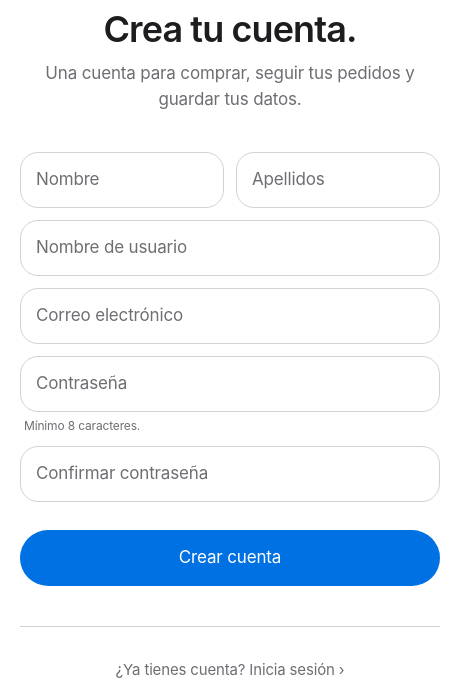
Test: RegisterForm — envío › muestra el error del servidor sin redirigir
This screenshot has width=461, height=700.
Type "Alan" into the field labelled "Nombre" at (122, 180), box [20,152,224,208]
Type "Vasquez" into the field labelled "Apellidos" at (338, 180), box [236,152,440,208]
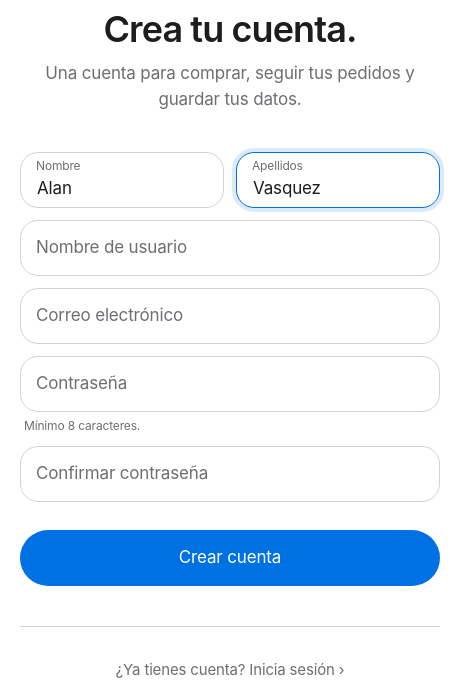
Type "alan" into the field labelled "Nombre de usuario" at (230, 248), box [20,220,440,276]
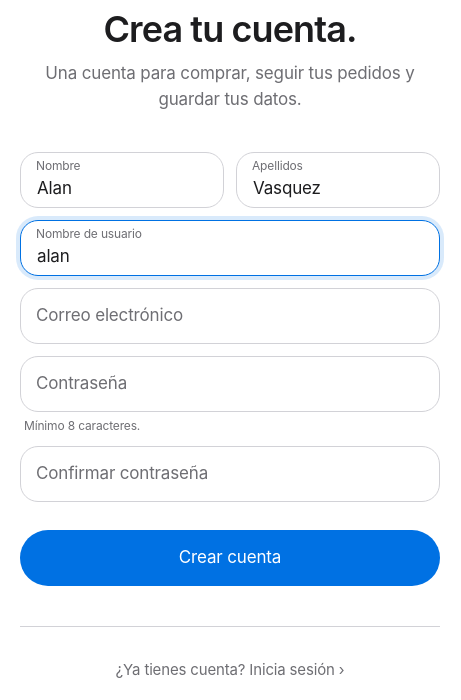
Type "alan@example.com" into the field labelled "Correo electrónico" at (230, 316), box [20,288,440,344]
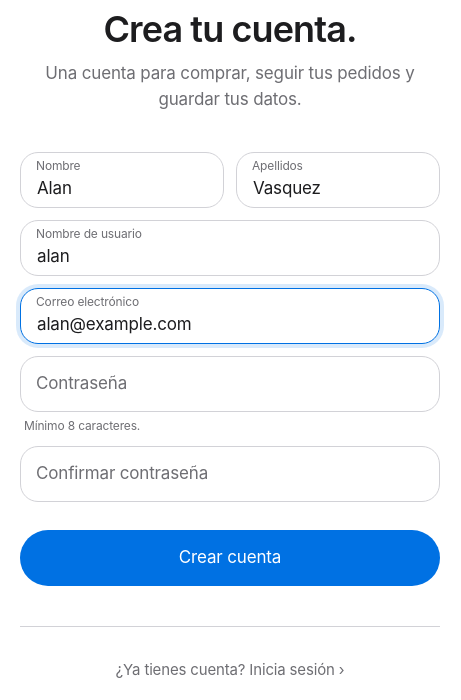
Type "MiPass123" into the password field labelled "Contraseña" at (230, 384), box [20,356,440,412]
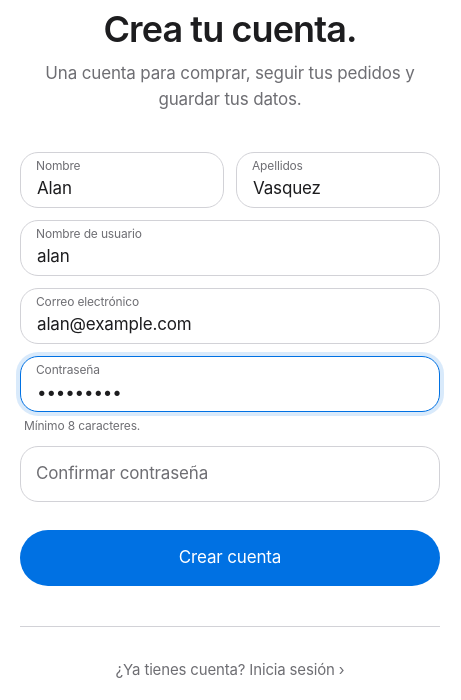
Type "MiPass123" into the password field labelled "Confirmar contraseña" at (230, 474), box [20,446,440,502]
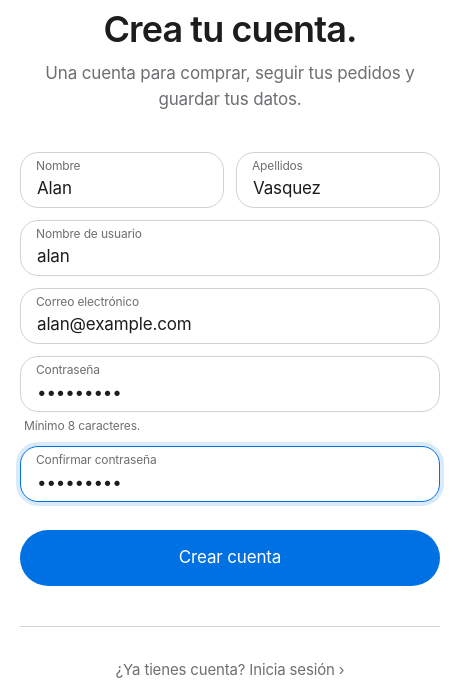
Click the button "Crear cuenta" at (230, 558), box [20,530,440,586]
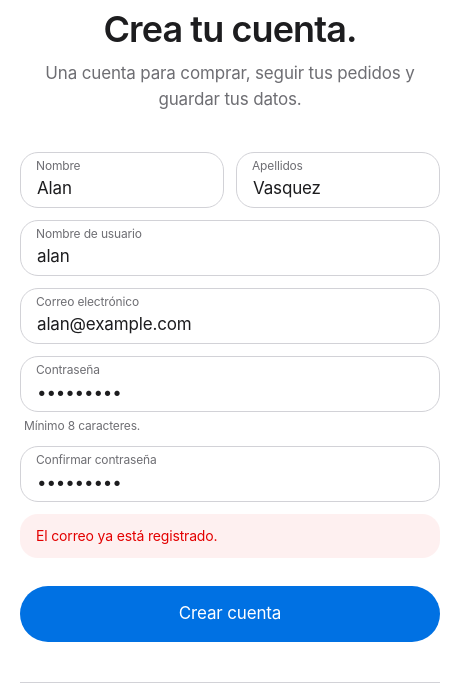
Result: the text "El correo ya está registrado." is shown at [20,514,440,558]
